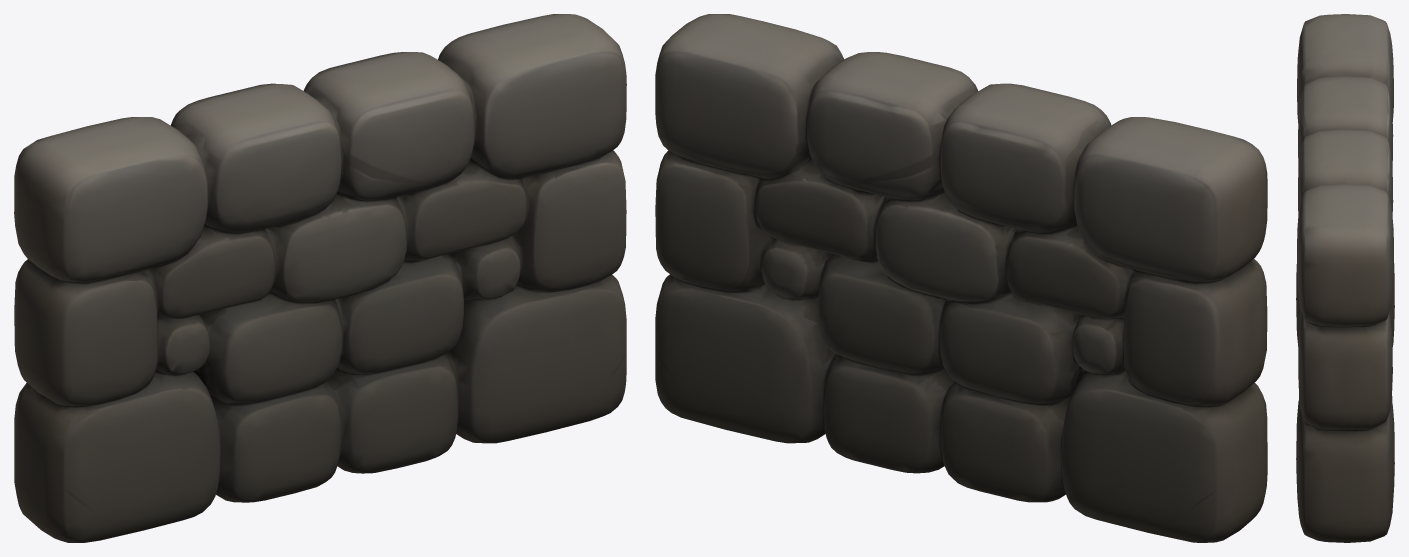
Rendered from Muro de Pedra Leveglb.glb.
3 renders of one model, left to right at view 1: azimuth 30°, elevation 25°; view 2: azimuth 150°, elevation 25°; view 3: azimuth 270°, elevation 25°, orthographic. The views are drawn at different scales.
Visible parts, largest first — view 1: model; view 2: model; view 3: model.
Part boxes in pixels (<box>): model: <box>14,14,626,542</box>; model: <box>655,14,1267,542</box>; model: <box>1296,14,1394,542</box>.
Size of the model in its own units: 1.9 by 1.2 by 0.3394.
Materials: 1 (1 with a texture image).
